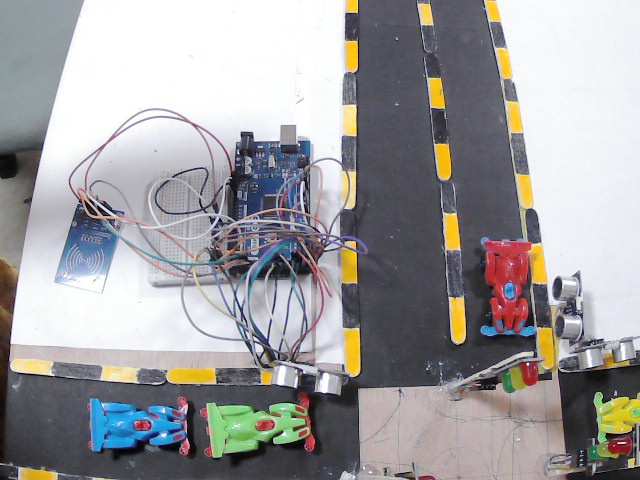black_strip: (340, 281, 362, 329), (444, 250, 465, 295), (53, 360, 100, 378), (429, 109, 451, 143), (216, 367, 259, 383), (510, 132, 527, 172), (340, 208, 360, 240), (534, 285, 548, 324), (342, 138, 359, 170), (487, 24, 508, 49), (440, 182, 458, 211), (137, 366, 165, 384), (344, 72, 360, 103), (343, 12, 360, 40), (524, 208, 537, 240), (59, 471, 103, 480), (500, 78, 517, 101), (427, 53, 444, 76), (423, 27, 437, 50), (559, 357, 580, 372), (1, 463, 17, 480), (626, 355, 640, 366)
car: (195, 394, 317, 458), (86, 396, 192, 451), (481, 236, 534, 338), (593, 389, 640, 440)
mixed_lane: (486, 2, 557, 369), (414, 0, 468, 350), (334, 0, 365, 380), (11, 356, 268, 388), (0, 465, 94, 480), (559, 355, 640, 372)
traffic_light: (473, 347, 543, 397), (575, 431, 640, 480)
uno_breadboard: (233, 126, 315, 280), (148, 161, 234, 288), (51, 196, 127, 293), (269, 357, 348, 398), (554, 271, 589, 342), (573, 334, 639, 370)
yellow_strip: (341, 330, 362, 373), (168, 367, 215, 385), (338, 242, 358, 282), (11, 357, 52, 376), (102, 364, 138, 383), (527, 244, 544, 283), (341, 171, 358, 207), (450, 299, 464, 342), (537, 329, 553, 366), (443, 213, 459, 248), (342, 105, 358, 137), (427, 78, 444, 108), (479, 0, 502, 22), (344, 41, 360, 71), (435, 146, 450, 177), (496, 49, 512, 77), (597, 355, 629, 369), (519, 176, 532, 207), (507, 105, 520, 132), (419, 2, 433, 26), (19, 471, 57, 477), (343, 0, 358, 11), (260, 368, 266, 384)
